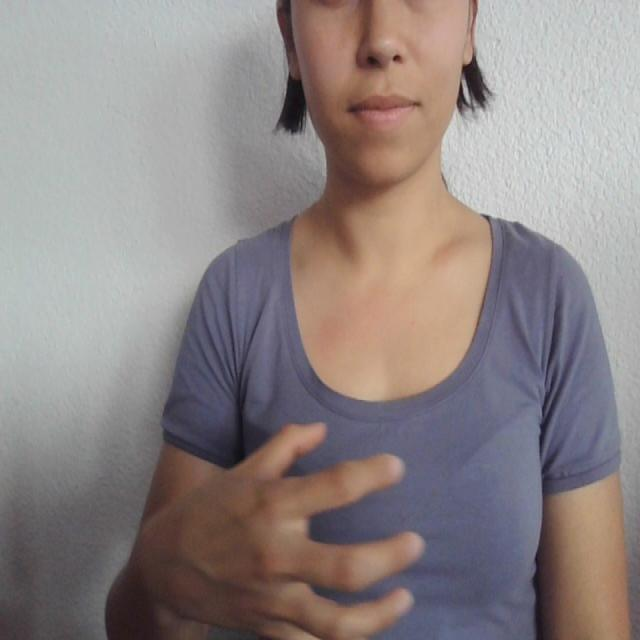Anne: (144, 387, 548, 640)
